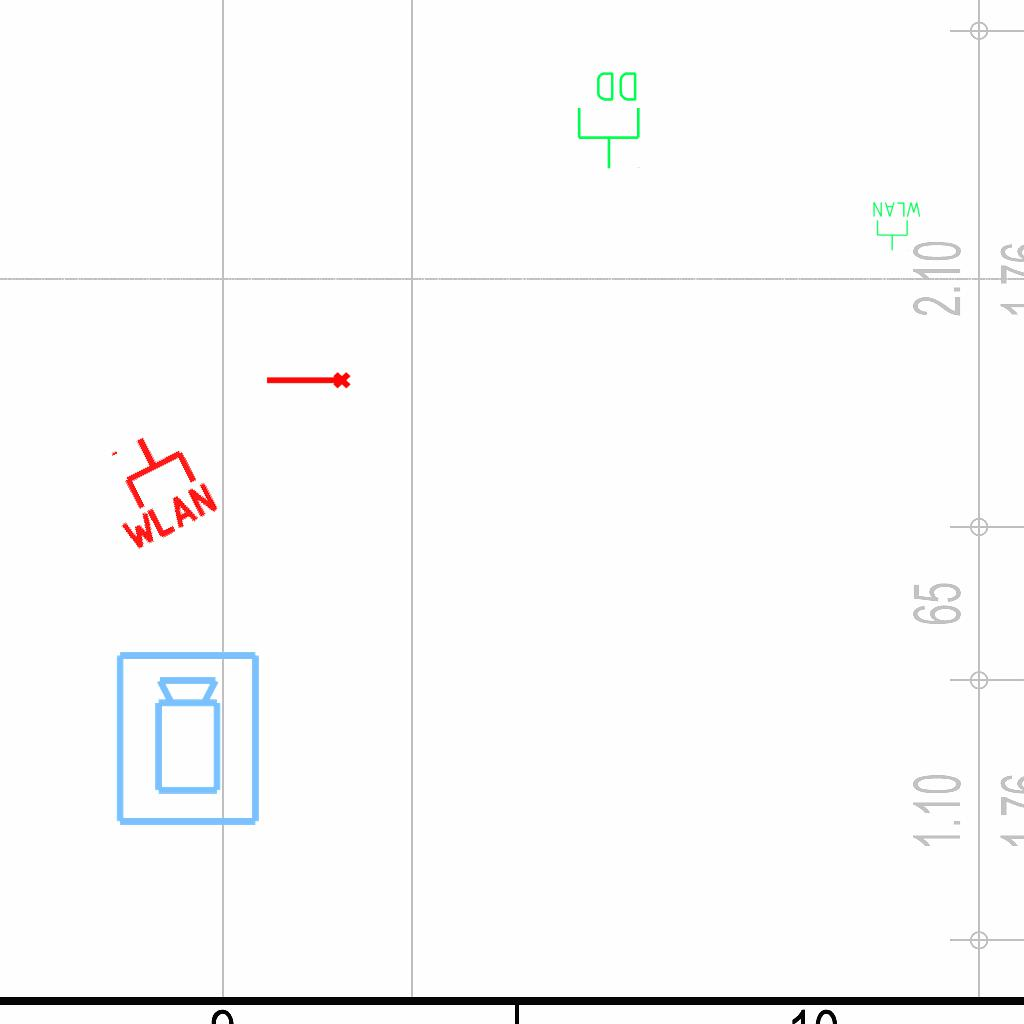ASR_Ansaugoeffnung: (264, 370, 352, 393)
Datenanschluss_zweifach: (575, 68, 644, 171)
KFO_Kamera_mit_Festobjektiv: (112, 648, 266, 830)
WLAN: (83, 415, 224, 557), (871, 200, 923, 252)
